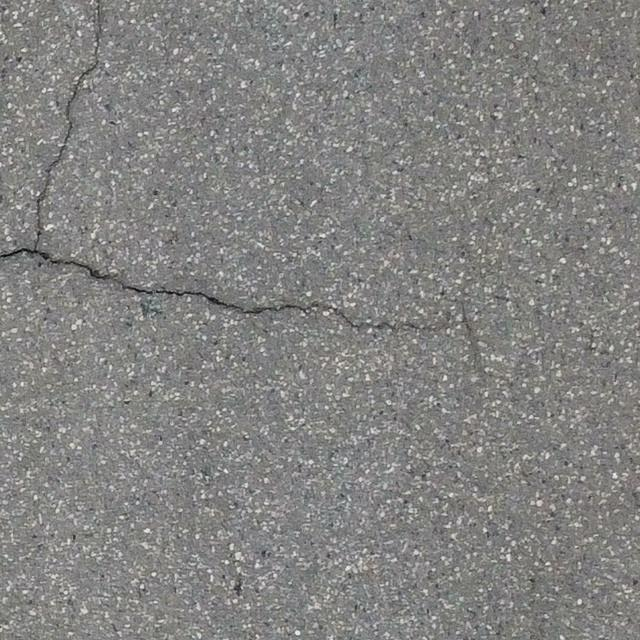LongitudinalCrack: (33, 1, 101, 249)
TransverseCrack: (1, 248, 431, 333)
